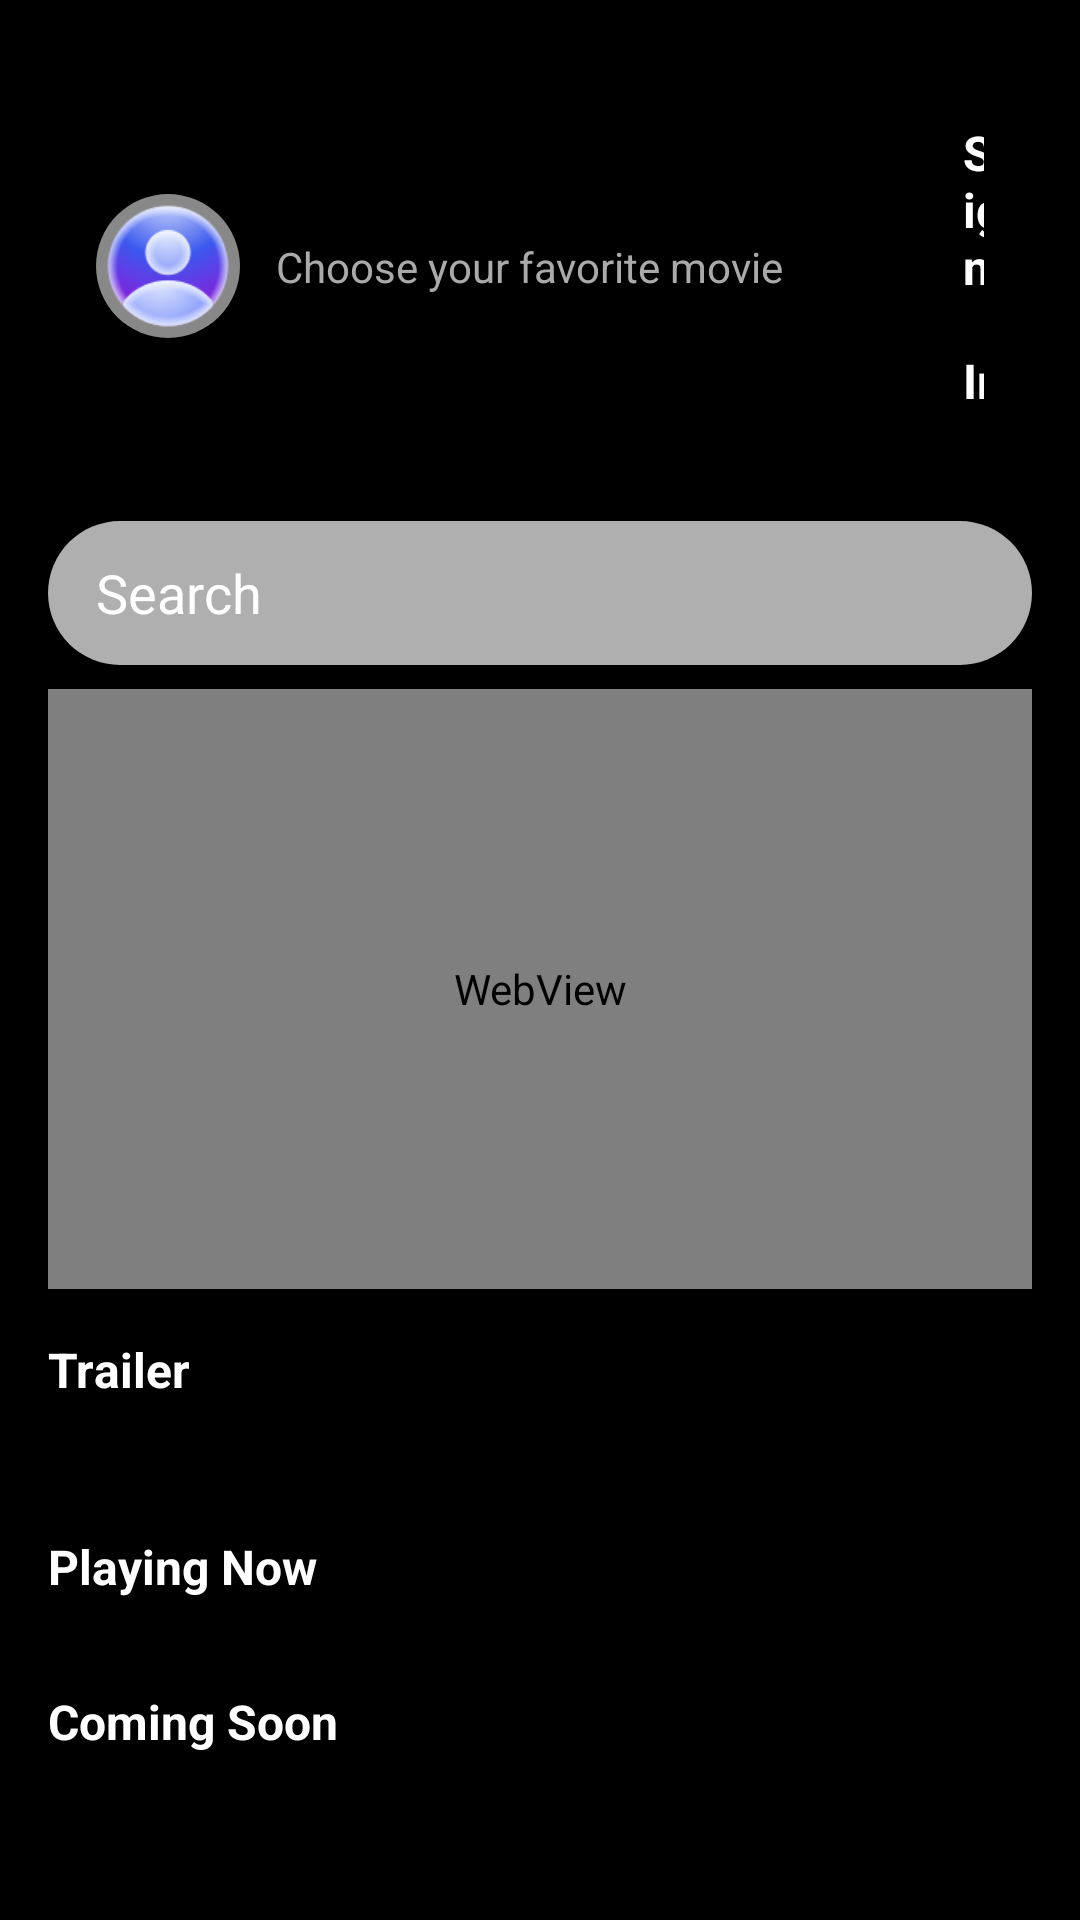

Locate icon controls on the screen. Image size 1080 × 1920, boxes as box(x1, y1, x2, y2).
profil: box(96, 194, 240, 338)
